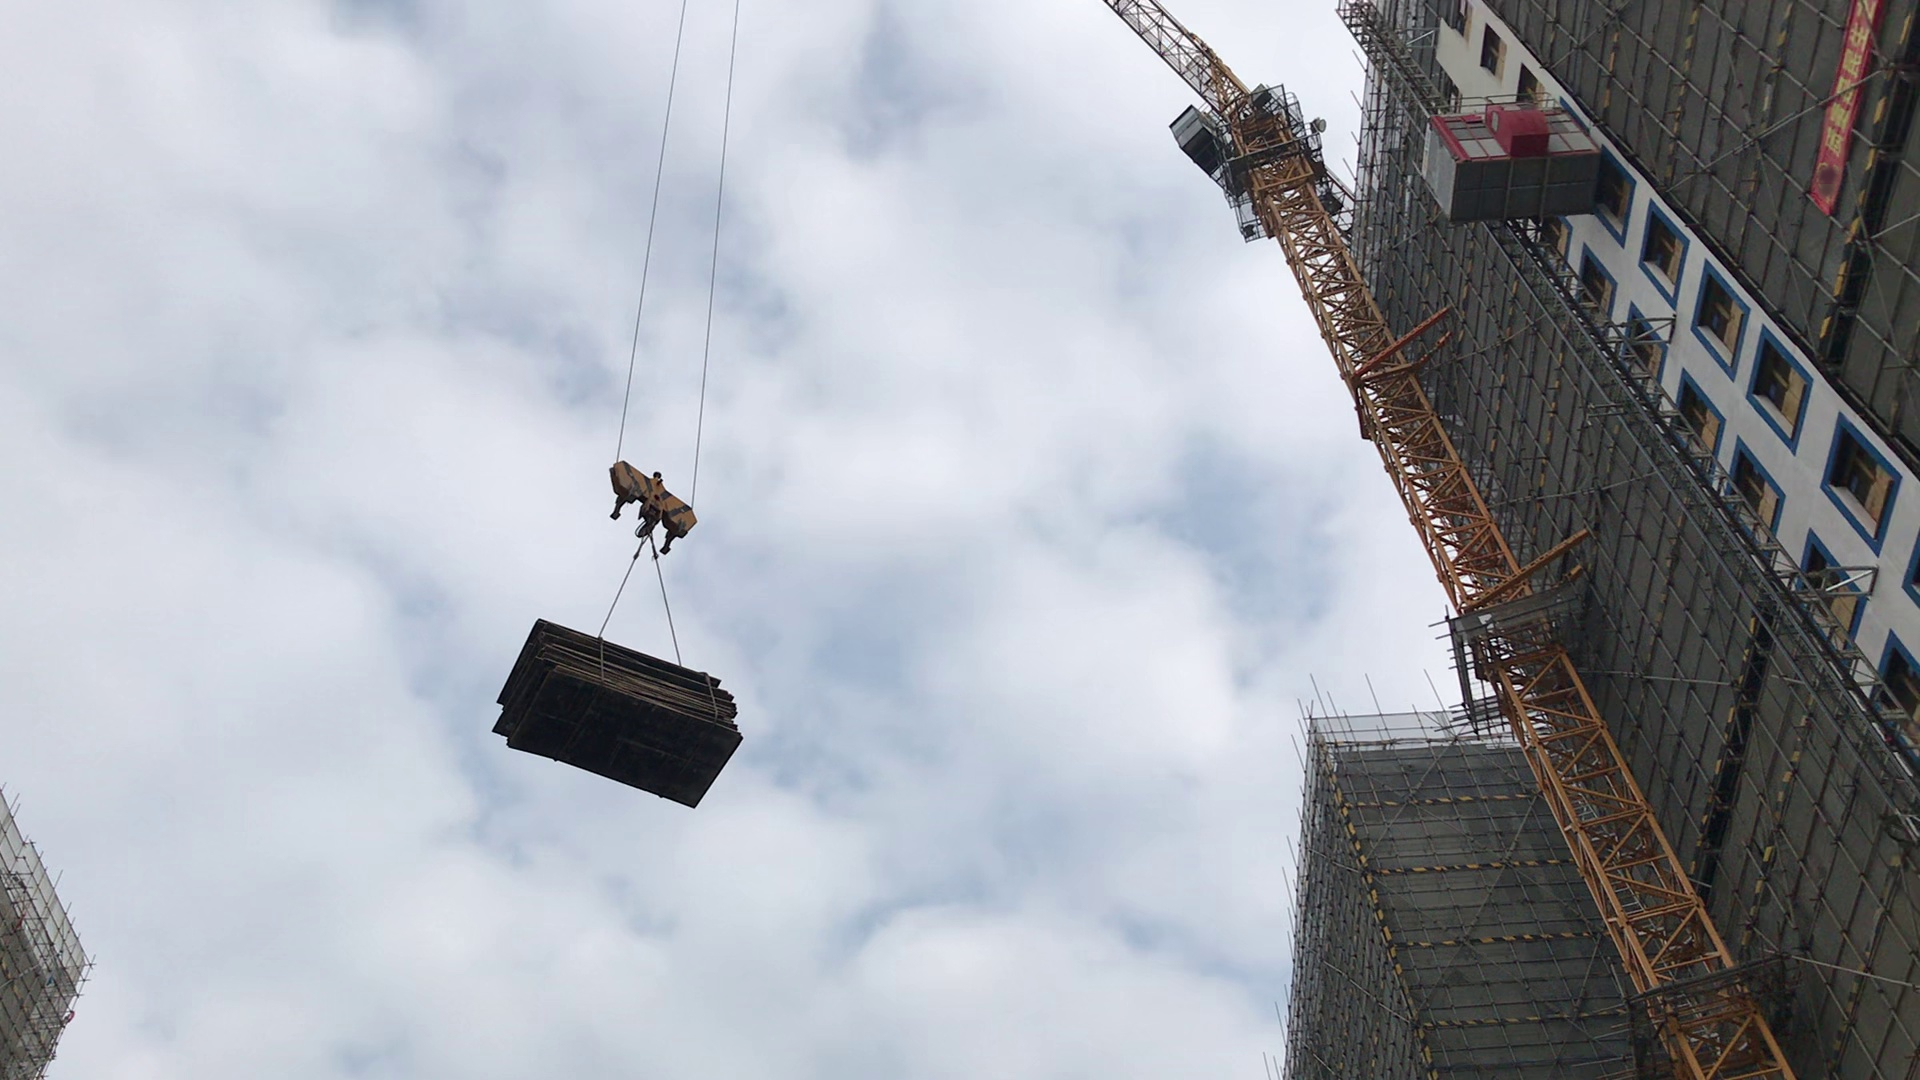board: (483, 603, 760, 806)
hook: (591, 456, 717, 550)
